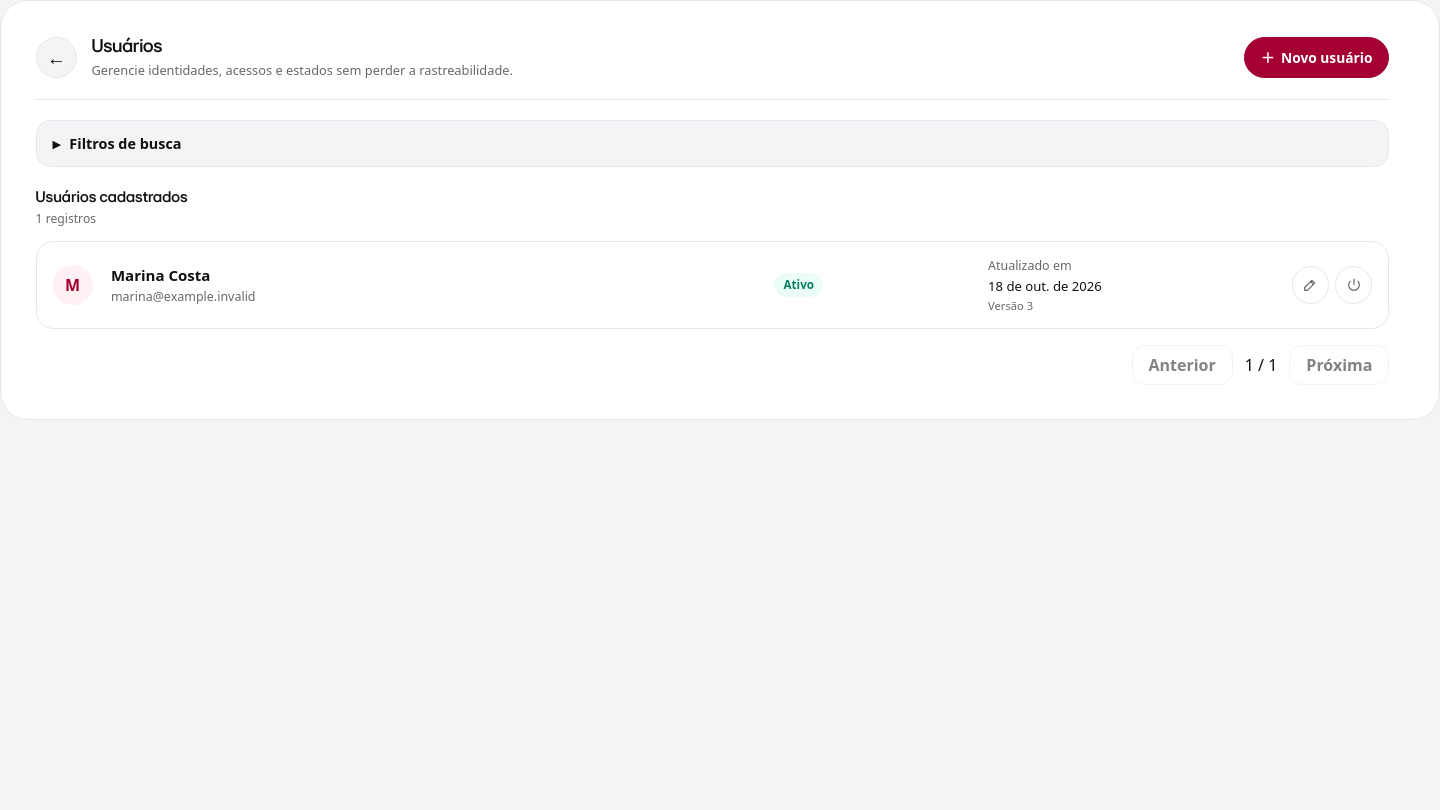
AdminUsersComponent › presents deactivation as a scoped destructive confirmation
Click the button named "Desativar: Marina Costa" at point(1354, 285), box [1335,266,1372,304]
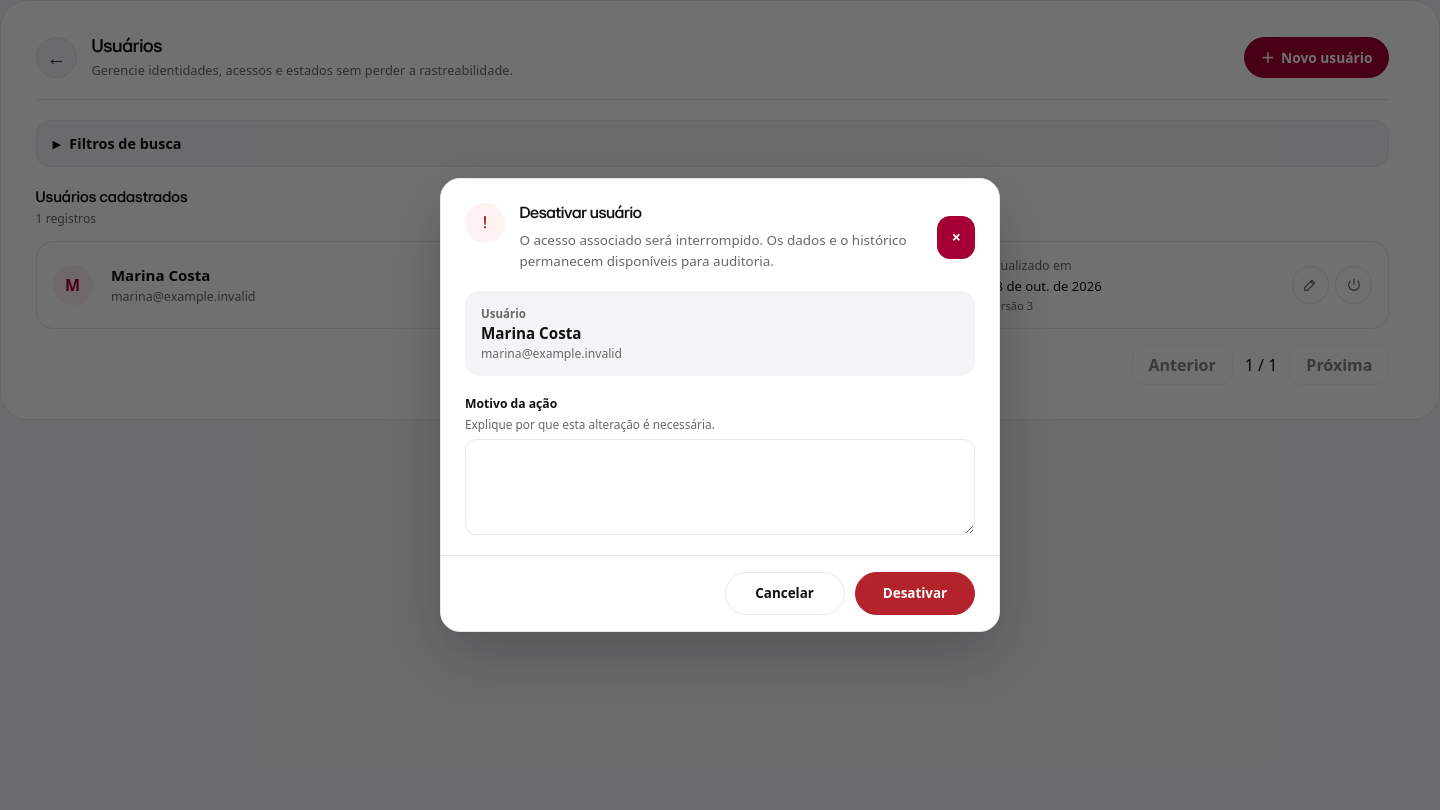
Now the element with class "admin-modal-subject" shows "Usuário", box [481,306,526,321]
Now the element with class "admin-modal-subject" shows "Marina Costa", box [481,323,582,343]
Now the button "Cancelar" is shown, box [725,572,845,615]
